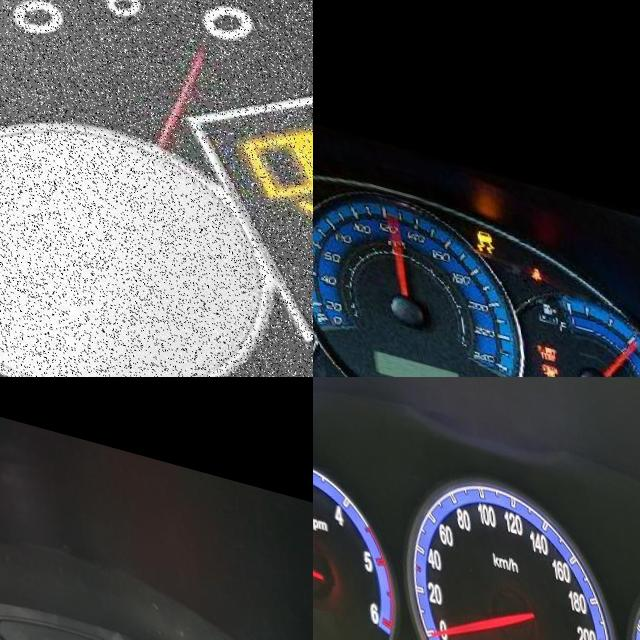Seat Belt: (522, 241, 535, 256)
